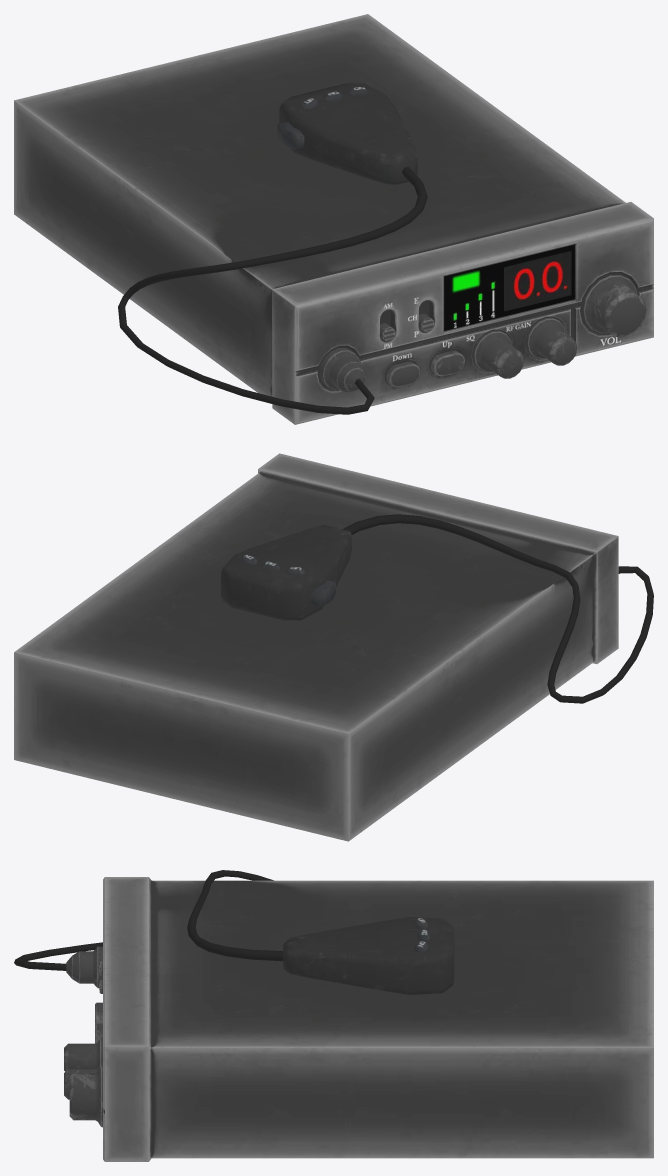
File: baseradio.glb
3 views of the same model, one above another, from view 1: azimuth 30°, elevation 25°; view 2: azimuth 150°, elevation 25°; view 3: azimuth 270°, elevation 25° (orthographic). The views are drawn at different scales.
Visible parts, largest first — view 1: Cube_transmitter_0; view 2: Cube_transmitter_0; view 3: Cube_transmitter_0.
Part boxes in pixels (bbox=[...]): Cube_transmitter_0: bbox=[14, 14, 653, 424]; Cube_transmitter_0: bbox=[14, 453, 653, 841]; Cube_transmitter_0: bbox=[14, 870, 653, 1161].
Size of the model in its own units: 0.3764 by 0.1346 by 0.4998.
1 material, 1 textured.
